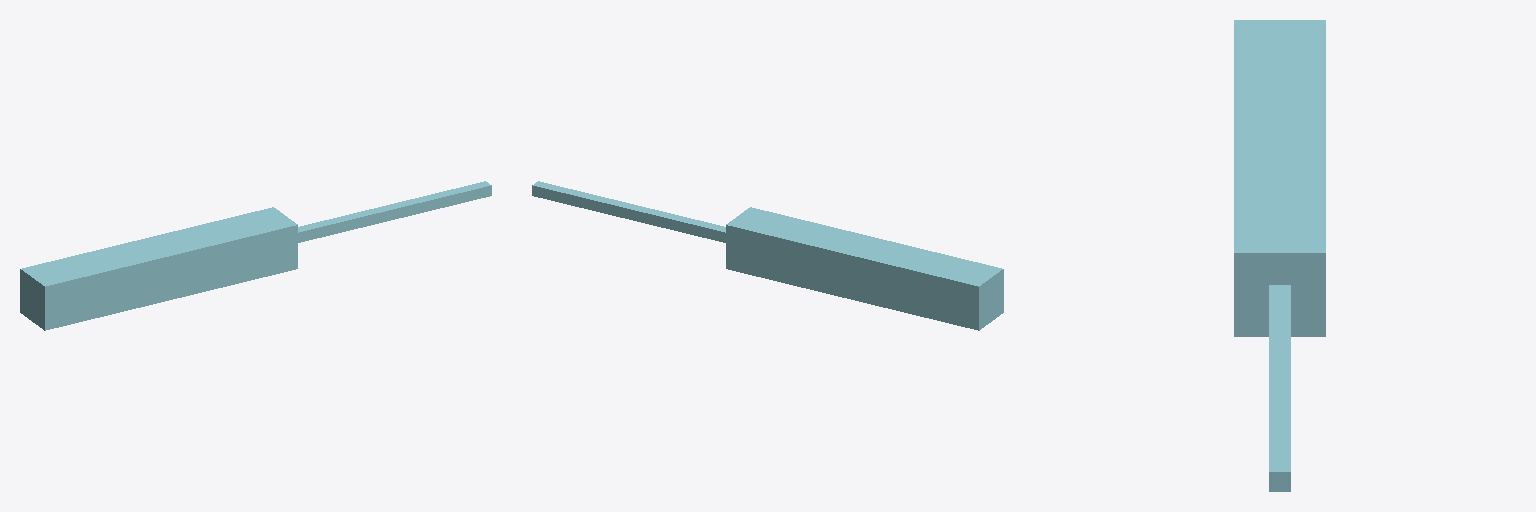
The robot description file, URDF, robot "cuboidal_screwdriver":
<?xml version="1.0"?>
<robot name="cuboidal_screwdriver">

  <link name="cuboidal_screwdriver">
    <!-- Handle -->
    <visual>
      <origin xyz="0 0 0" rpy="0 0 0"/>
      <geometry>
        <box size="0.15 0.025 0.025"/>
      </geometry>
      <material name="material">
        <color rgba="0.639 0.847 0.882 1.0"/>
      </material>
    </visual>
    <collision>
      <origin xyz="0 0 0" rpy="0 0 0"/>
      <geometry>
        <box size="0.15 0.025 0.025"/>
      </geometry>
    </collision>

    <!-- Head -->
    <visual>
      <origin xyz="0.135 0 0" rpy="0 0 0"/>
      <geometry>
        <box size="0.12 0.006 0.006"/>
      </geometry>
      <material name="material">
        <color rgba="0.639 0.847 0.882 1.0"/>
      </material>
    </visual>
    <collision>
      <origin xyz="0.135 0 0" rpy="0 0 0"/>
      <geometry>
        <box size="0.12 0.006 0.006"/>
      </geometry>
    </collision>

    <inertial>
      <density value="400.0"/>
    </inertial>
  </link>

</robot>

--- Facts derived from the render (not from the file) ---
The picture shows the robot from 3 angles, left to right: view 1: azimuth 30°, elevation 25°; view 2: azimuth 150°, elevation 25°; view 3: azimuth 270°, elevation 25°; orthographic projection.
Model cuboidal_screwdriver with 1 links and 0 joints (none), rooted at cuboidal_screwdriver, posed every joint at zero.
Links seen in each view (by area): view 1: cuboidal_screwdriver; view 2: cuboidal_screwdriver; view 3: cuboidal_screwdriver.
Link boxes in pixels (x1,y1,x2,y2): cuboidal_screwdriver: (20,181,491,330); cuboidal_screwdriver: (532,181,1003,330); cuboidal_screwdriver: (1234,20,1325,491).
Bounding box of the posed robot: 0.27 × 0.025 × 0.025 m (x, y, z).
Geometry: primitives only (box / cylinder / sphere), no mesh files.
